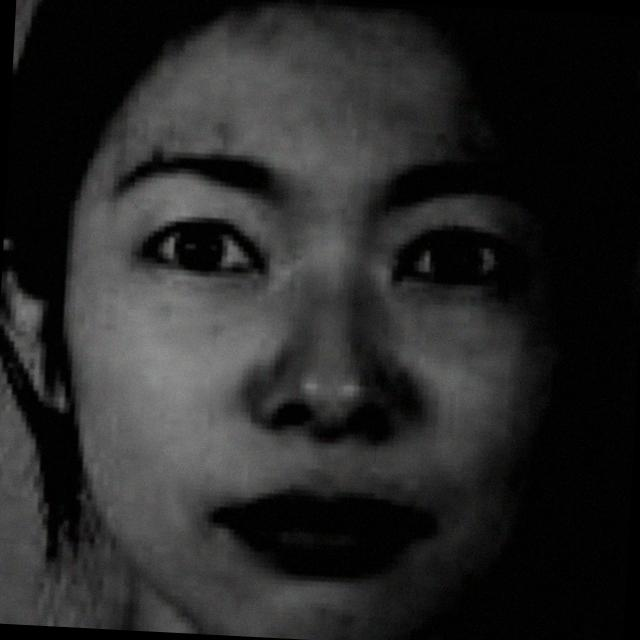fear: (78, 52, 590, 634)
